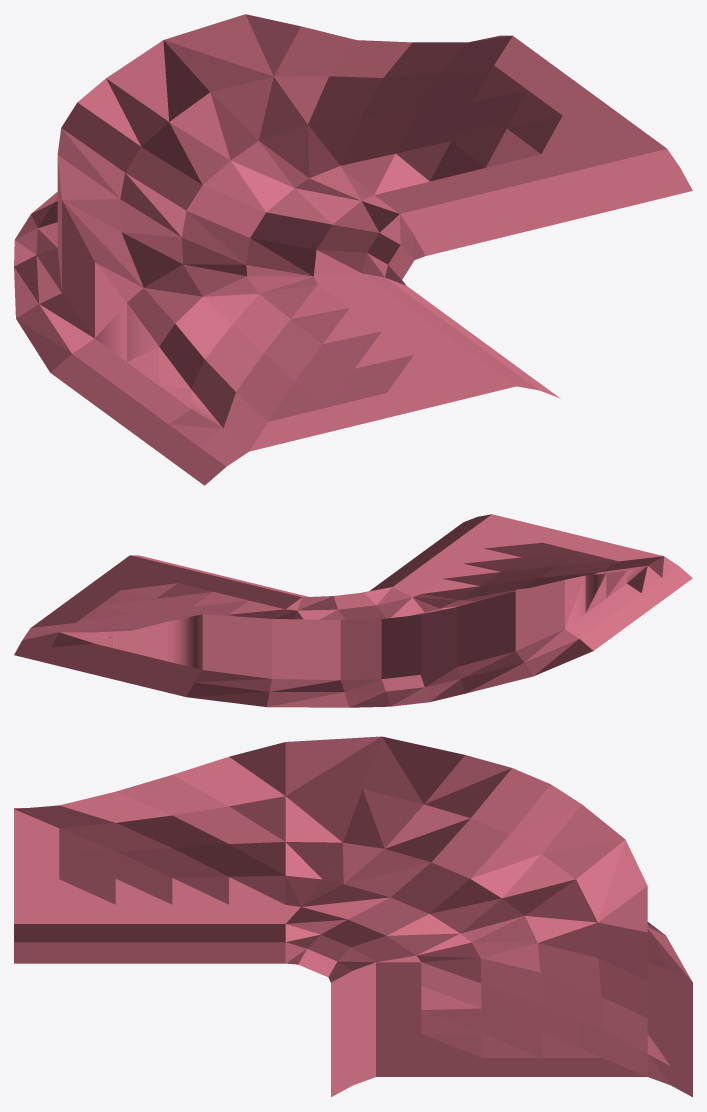
The model's file is RaceTrack14.glb.
The picture shows the model from 3 angles, top to bottom: view 1: azimuth 30°, elevation 25°; view 2: azimuth 150°, elevation 25°; view 3: azimuth 270°, elevation 25°; orthographic projection. The views are drawn at different scales.
Bounding box in the file's own units: 15 × 2.5 × 15.
